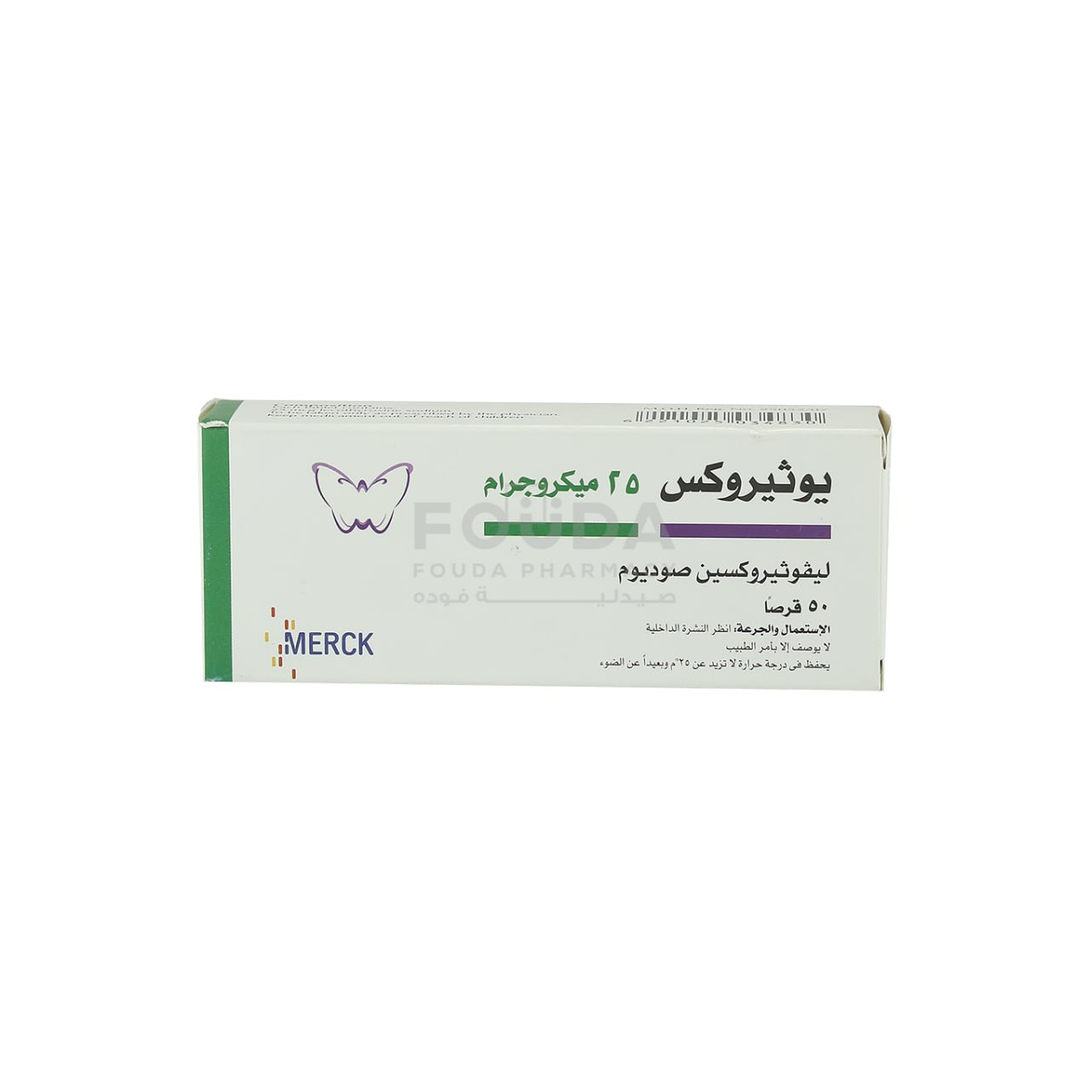Medicine: (187, 389, 902, 717)
